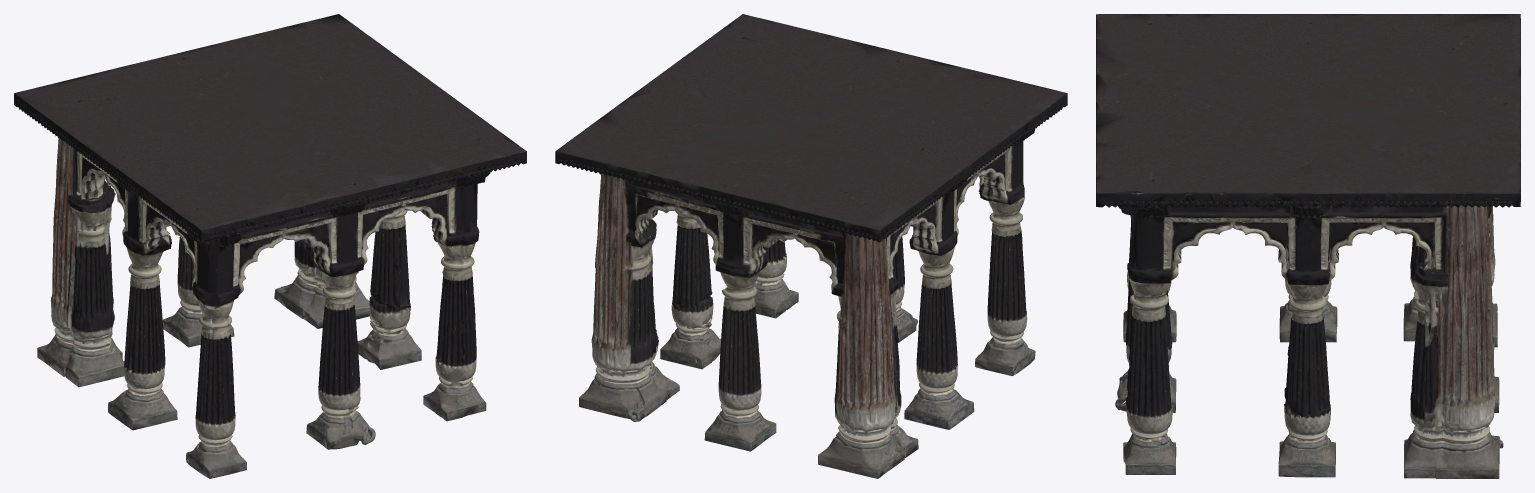
File: palace-pillar.glb
3 views of the same model, side by side, from view 1: azimuth 30°, elevation 25°; view 2: azimuth 150°, elevation 25°; view 3: azimuth 270°, elevation 25° (orthographic). The views are drawn at different scales.
Bounding box in the file's own units: 1.9 × 1.47 × 1.9.
1 material, 1 textured.
